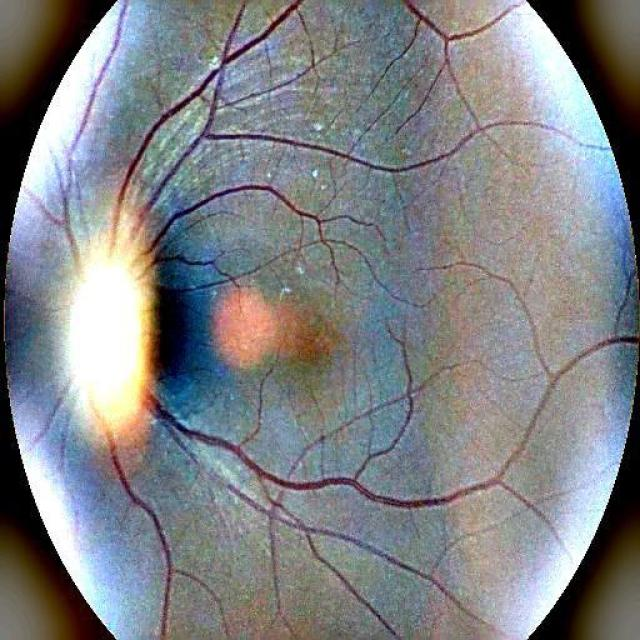Macula: (275, 309, 336, 372)
Nerves: (111, 0, 306, 234), (146, 386, 519, 508), (221, 479, 459, 604), (36, 0, 129, 259), (316, 91, 500, 172), (110, 438, 176, 639), (151, 185, 322, 262), (401, 0, 508, 108), (321, 560, 400, 639), (242, 45, 314, 98), (390, 362, 414, 448), (591, 334, 639, 359), (51, 381, 70, 418)
Optic Disk: (67, 256, 142, 420)
